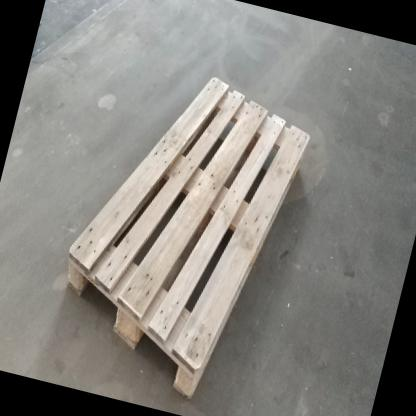BoxFace: (65, 69, 314, 409)
